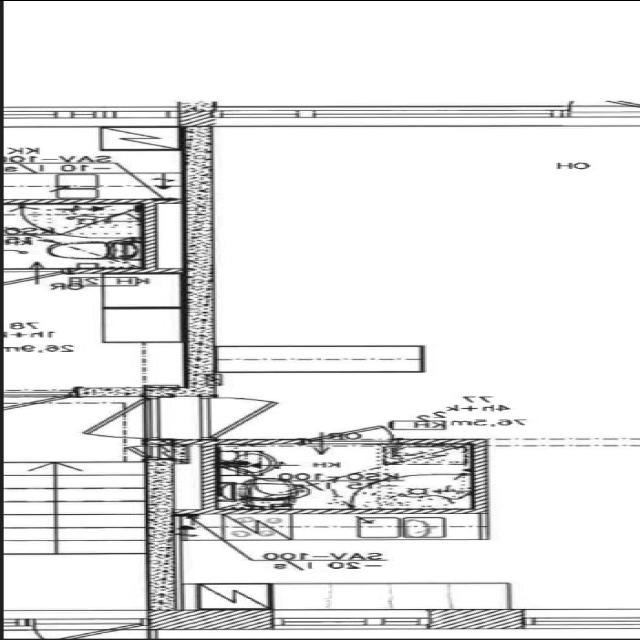door: (189, 392, 271, 440), (78, 398, 166, 441)
window: (264, 603, 640, 635), (211, 101, 640, 126)
